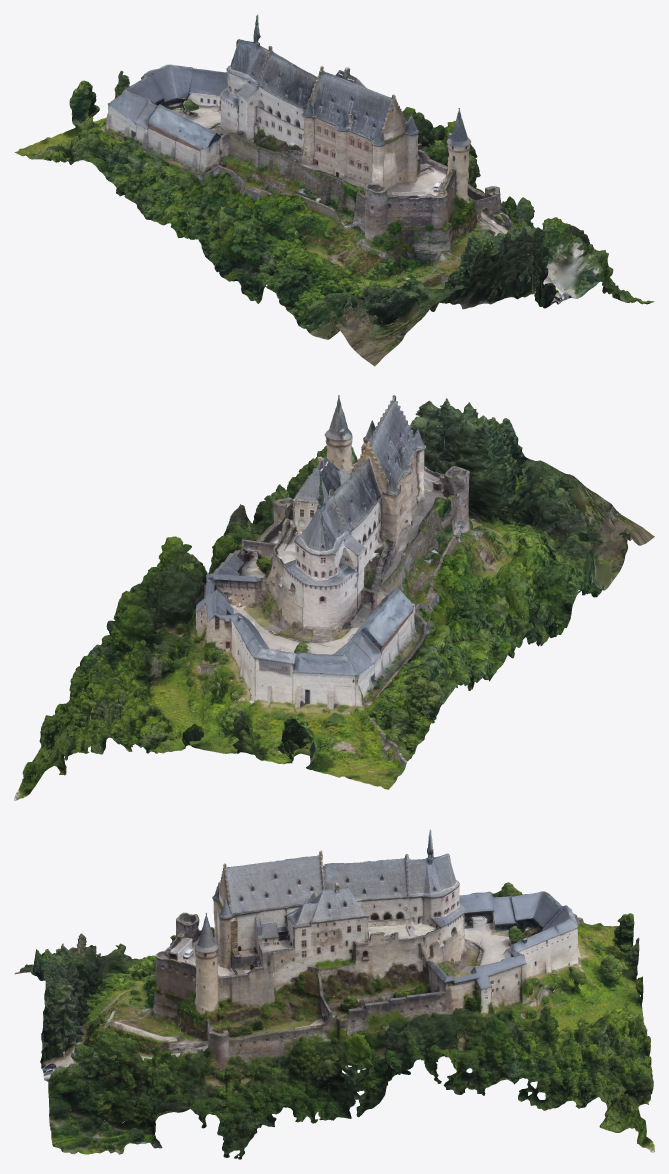
The model's file is sf-vianden-castle-91a01e.glb.
The picture shows the model from 3 angles, top to bottom: view 1: azimuth 30°, elevation 25°; view 2: azimuth 150°, elevation 25°; view 3: azimuth 270°, elevation 25°; orthographic projection. The views are drawn at different scales.
Parts seen in each view (by area): view 1: Model_material1_0, Model_material0_0; view 2: Model_material1_0, Model_material0_0; view 3: Model_material0_0, Model_material1_0.
Part boxes in pixels (x1=…): Model_material1_0: x1=34, y1=15, x2=654, y2=343; Model_material0_0: x1=14, y1=15, x2=625, y2=366; Model_material1_0: x1=14, y1=395, x2=632, y2=800; Model_material0_0: x1=28, y1=395, x2=654, y2=789; Model_material0_0: x1=14, y1=843, x2=651, y2=1158; Model_material1_0: x1=19, y1=829, x2=654, y2=1159.
Bounding box in the file's own units: 71.9 × 45.14 × 106.
Materials: 2 (2 with a texture image).
